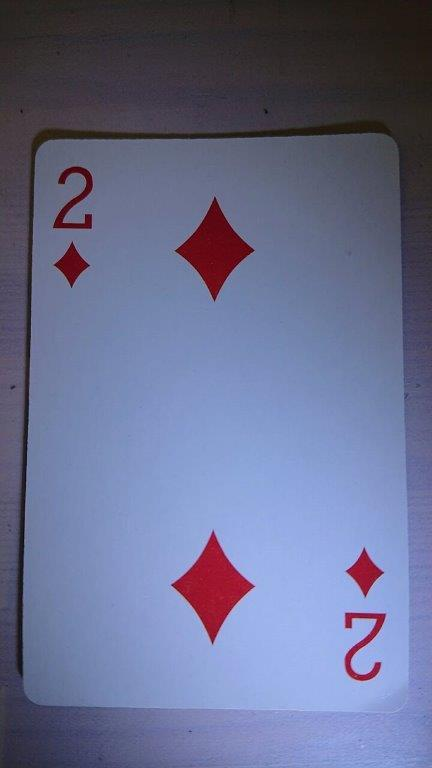2D: (19, 130, 412, 715)
